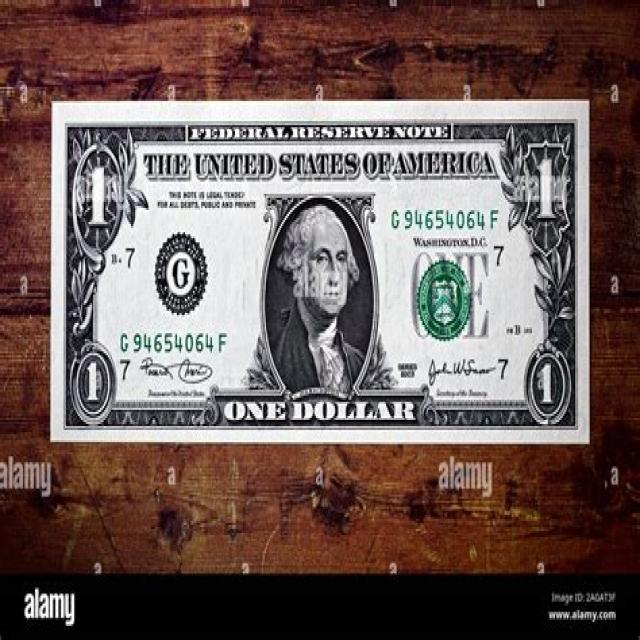One: (50, 102, 588, 446)
